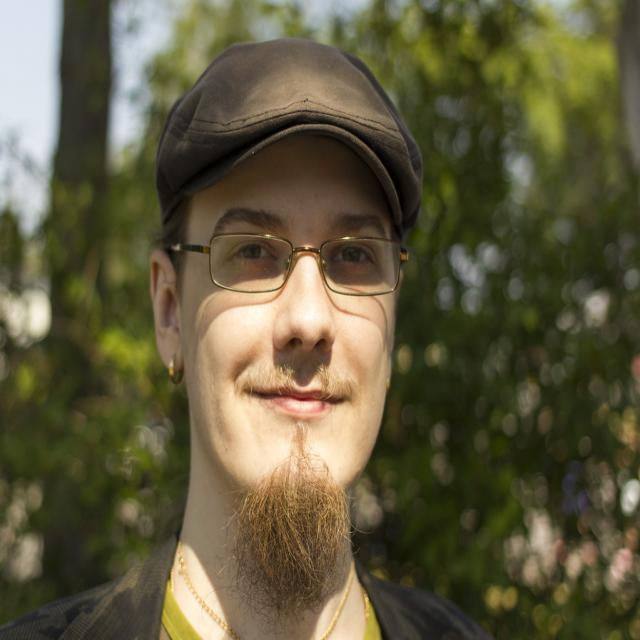hair: (235, 431, 350, 617)
